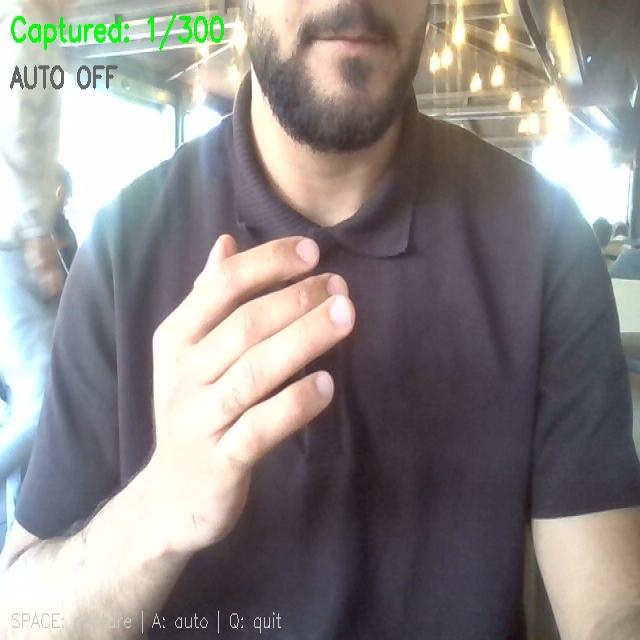Hand: (142, 236, 354, 553)
